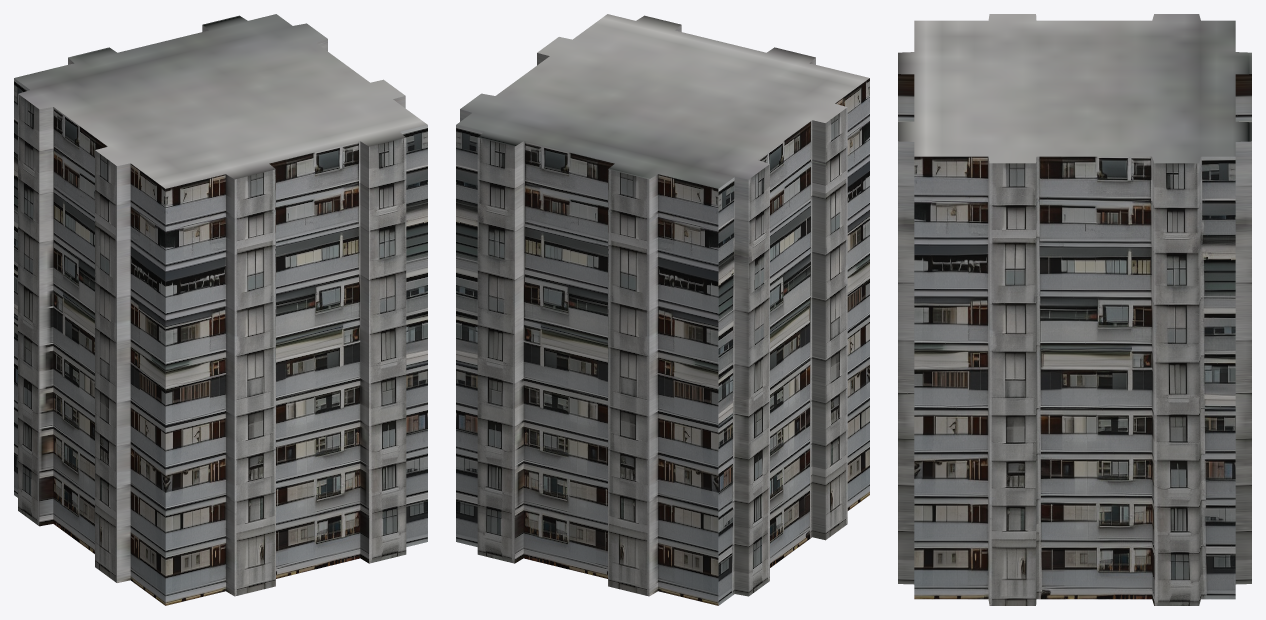
3 renders of one model, left to right at view 1: azimuth 30°, elevation 25°; view 2: azimuth 150°, elevation 25°; view 3: azimuth 270°, elevation 25°, orthographic. The views are drawn at different scales.
Parts seen in each view (by area): view 1: B4; view 2: B4; view 3: B4.
Boxes of the visible parts, box(x1,y1,x2,y2) form: B4: box(14, 14, 427, 605); B4: box(456, 14, 869, 605); B4: box(898, 14, 1251, 605).
Size of the model in its own units: 546 by 753 by 546.
1 material, 1 textured.
